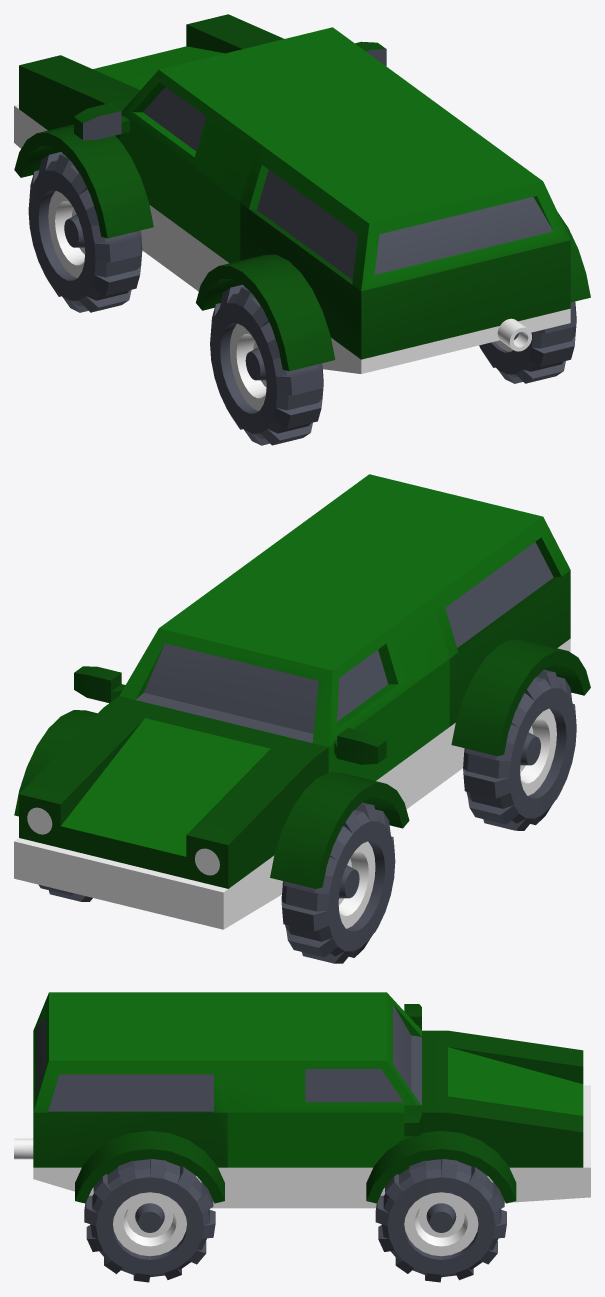
The model's file is Traffic Offroad Green.fbx.
The picture shows the model from 3 angles, top to bottom: view 1: azimuth 30°, elevation 25°; view 2: azimuth 150°, elevation 25°; view 3: azimuth 270°, elevation 25°; orthographic projection. The views are drawn at different scales.
Visible parts, largest first — view 1: trunk_station_87, windshield_square_83, wheel_dirt_107, wheel_dirt_108, hood_square_116, detail_fender_110, detail_fender_109, wheel_dirt_114, detail_mirror_101, detail_fender_113, detail_exhaust_103; view 2: hood_square_116, windshield_square_83, trunk_station_87, wheel_dirt_107, wheel_dirt_108, detail_fender_109, detail_fender_110, detail_fender_111, detail_mirror_101, detail_mirror_102; view 3: windshield_square_83, trunk_station_87, hood_square_116, wheel_dirt_114, wheel_dirt_112, detail_fender_111, detail_fender_113, detail_mirror_102, detail_exhaust_103.
Boxes of the visible parts, <box> form: trunk_station_87: <box>240,100,570,373</box>; windshield_square_83: <box>119,27,431,291</box>; wheel_dirt_107: <box>28,152,142,312</box>; wheel_dirt_108: <box>210,284,323,445</box>; hood_square_116: <box>14,14,283,148</box>; detail_fender_110: <box>196,254,335,371</box>; detail_fender_109: <box>14,124,153,238</box>; wheel_dirt_114: <box>479,301,576,383</box>; detail_mirror_101: <box>74,103,129,140</box>; detail_fender_113: <box>557,212,590,302</box>; detail_exhaust_103: <box>497,318,531,351</box>; hood_square_116: <box>14,696,328,929</box>; windshield_square_83: <box>119,555,449,809</box>; trunk_station_87: <box>258,474,570,777</box>; wheel_dirt_107: <box>281,802,395,963</box>; wheel_dirt_108: <box>463,669,576,830</box>; detail_fender_109: <box>270,772,409,888</box>; detail_fender_110: <box>451,639,590,756</box>; detail_fender_111: <box>14,710,97,816</box>; detail_mirror_101: <box>334,728,386,764</box>; detail_mirror_102: <box>74,666,125,703</box>; windshield_square_83: <box>227,992,421,1208</box>; trunk_station_87: <box>33,992,227,1208</box>; hood_square_116: <box>422,1030,590,1202</box>; wheel_dirt_114: <box>84,1158,215,1282</box>; wheel_dirt_112: <box>375,1158,506,1282</box>; detail_fender_111: <box>366,1131,516,1203</box>; detail_fender_113: <box>75,1131,224,1203</box>; detail_mirror_102: <box>404,1105,421,1136</box>; detail_exhaust_103: <box>14,1138,33,1159</box>.
Bounding box in the file's own units: 14.5 × 11.38 × 29.7.
